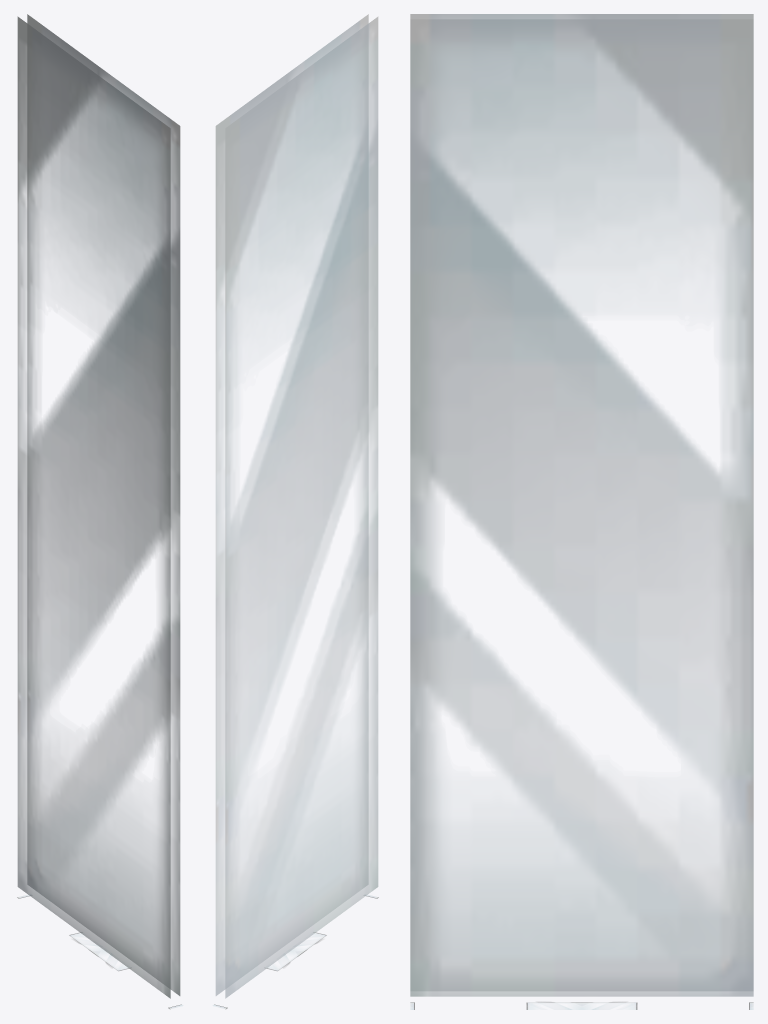
The model's file is my_shoppingmall_01_partition_02.glb.
3 views of the same model, side by side, from view 1: azimuth 30°, elevation 25°; view 2: azimuth 150°, elevation 25°; view 3: azimuth 270°, elevation 25° (orthographic). The views are drawn at different scales.
Parts seen in each view (by area): view 1: my_shoppingmall_01_partition_01_a, my_shoppingmall_01_partition_02; view 2: my_shoppingmall_01_partition_01_a, my_shoppingmall_01_partition_02; view 3: my_shoppingmall_01_partition_01_a, my_shoppingmall_01_partition_02.
Boxes of the visible parts, left/top/right/bottom form: my_shoppingmall_01_partition_01_a: left=17, top=14, right=180, bottom=998; my_shoppingmall_01_partition_02: left=17, top=894, right=182, bottom=1009; my_shoppingmall_01_partition_01_a: left=215, top=14, right=378, bottom=998; my_shoppingmall_01_partition_02: left=213, top=894, right=378, bottom=1009; my_shoppingmall_01_partition_01_a: left=410, top=14, right=753, bottom=996; my_shoppingmall_01_partition_02: left=410, top=1002, right=753, bottom=1009.
Size of the model in its own units: 0.000715 by 0.036 by 0.0113.
Materials: 2 (2 with a texture image).
